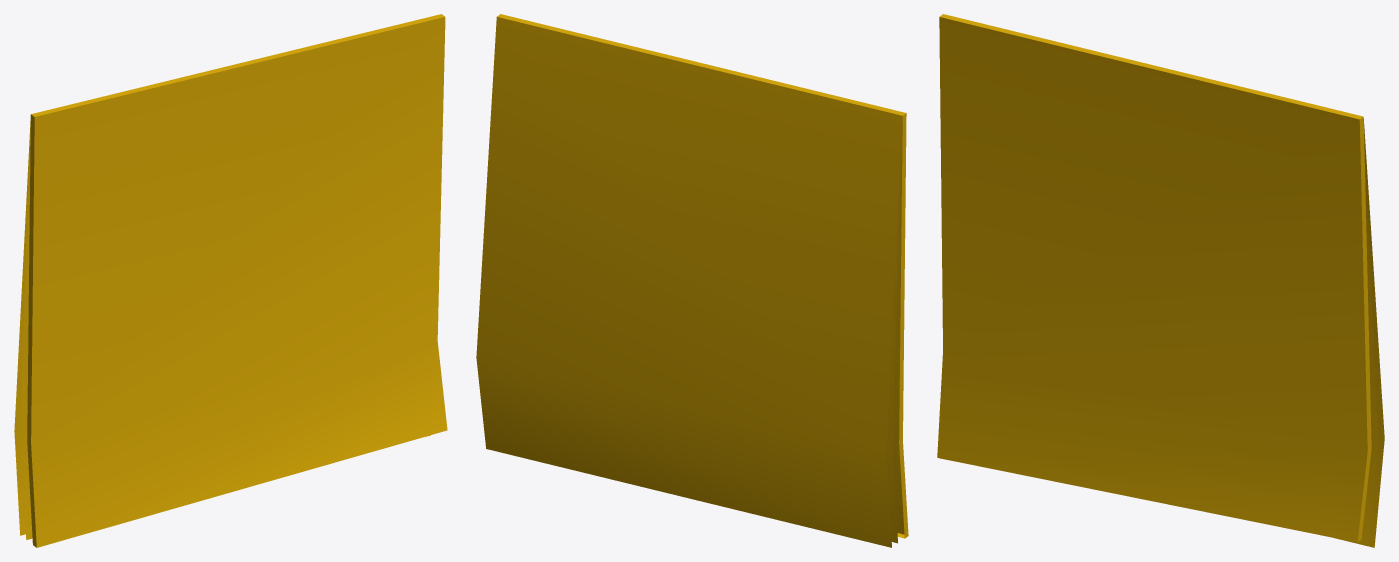
The model's file is 포스트잇.fbx.
The picture shows the model from 3 angles, left to right: view 1: azimuth 30°, elevation 25°; view 2: azimuth 150°, elevation 25°; view 3: azimuth 330°, elevation 25°; orthographic projection. The views are drawn at different scales.
Parts seen in each view (by area): view 1: Plane; view 2: Plane; view 3: Plane.
Boxes of the visible parts, x1,y1,x2,y2 form: Plane: (14,14,447,547); Plane: (476,14,908,547); Plane: (937,14,1384,547).
Bounding box in the file's own units: 300 × 300 × 33.57.
